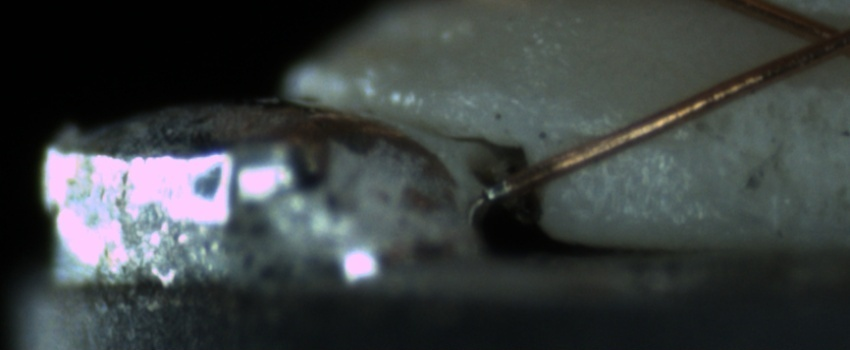CL: (780, 7, 848, 66)
DL: (560, 109, 704, 169)
